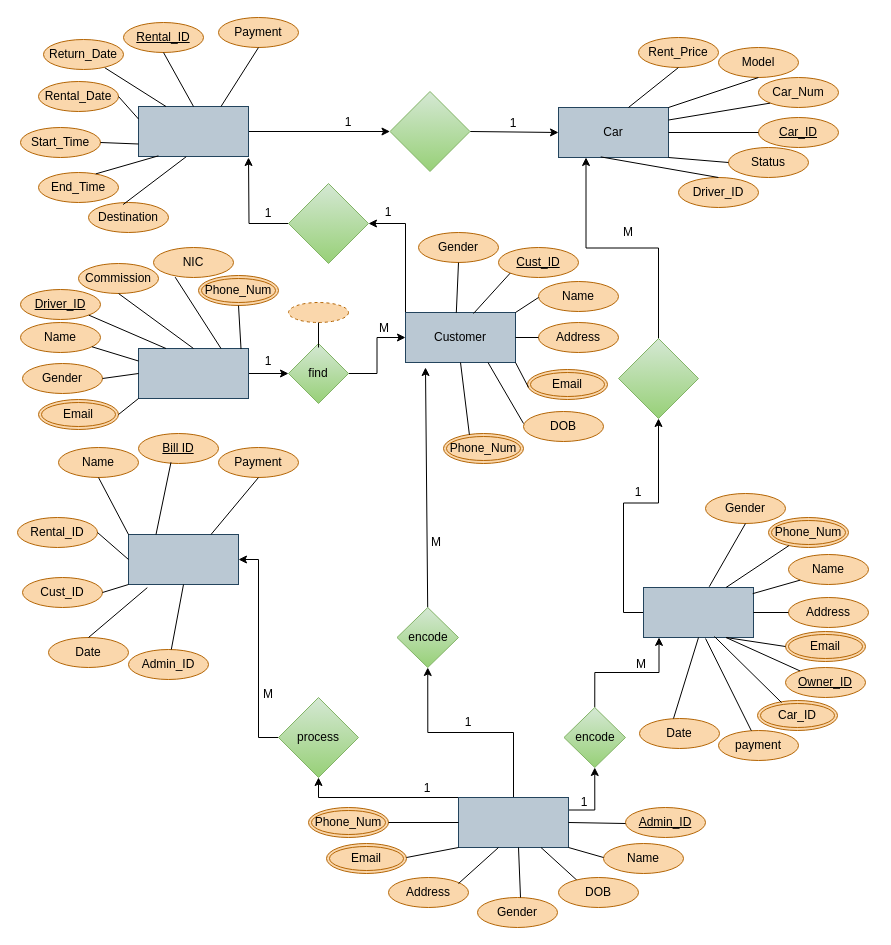
Some shapes in this 891 by 945 pixel diagram are drawn without their labels. Here are the shapes that lost their labels. From the top down, the centre of each, then its label:
the point at 193,131: Rental
the point at 429,131: open
the point at 328,223: rent
the point at 318,312: location
the point at 193,373: Driver
the point at 658,378: registers
the point at 183,559: Bill
the point at 698,612: Owner
the point at 513,822: Admin
